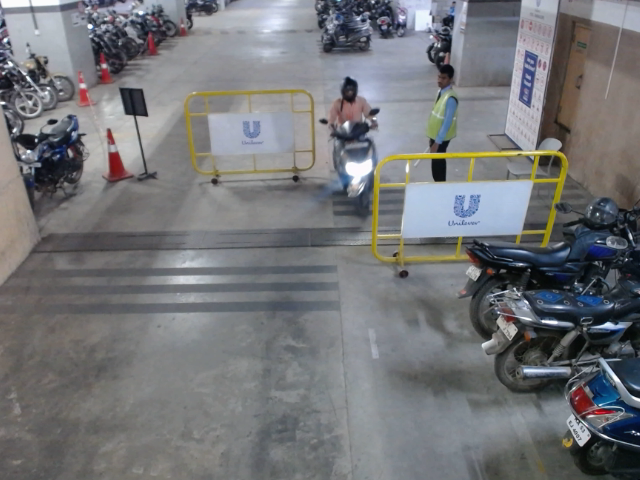with_helmet: (335, 75, 362, 103)
